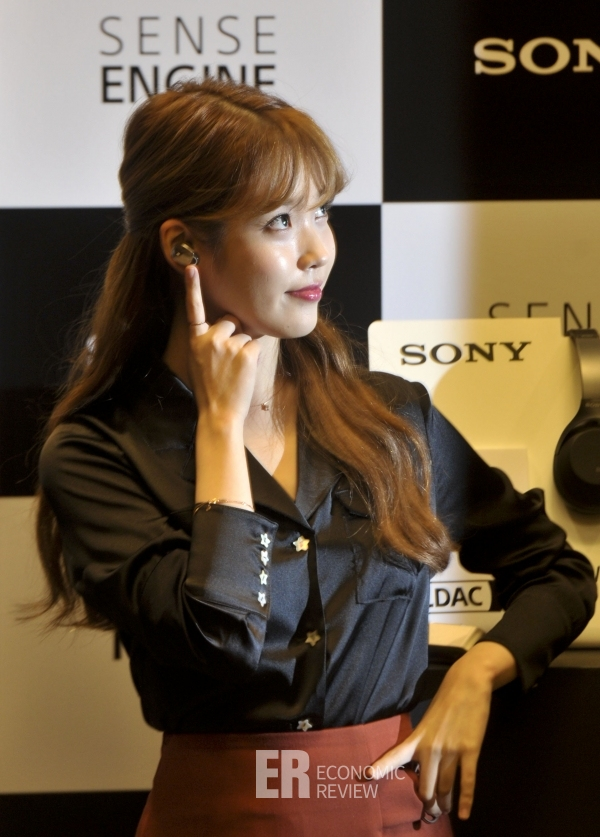earphone: (159, 219, 204, 279)
